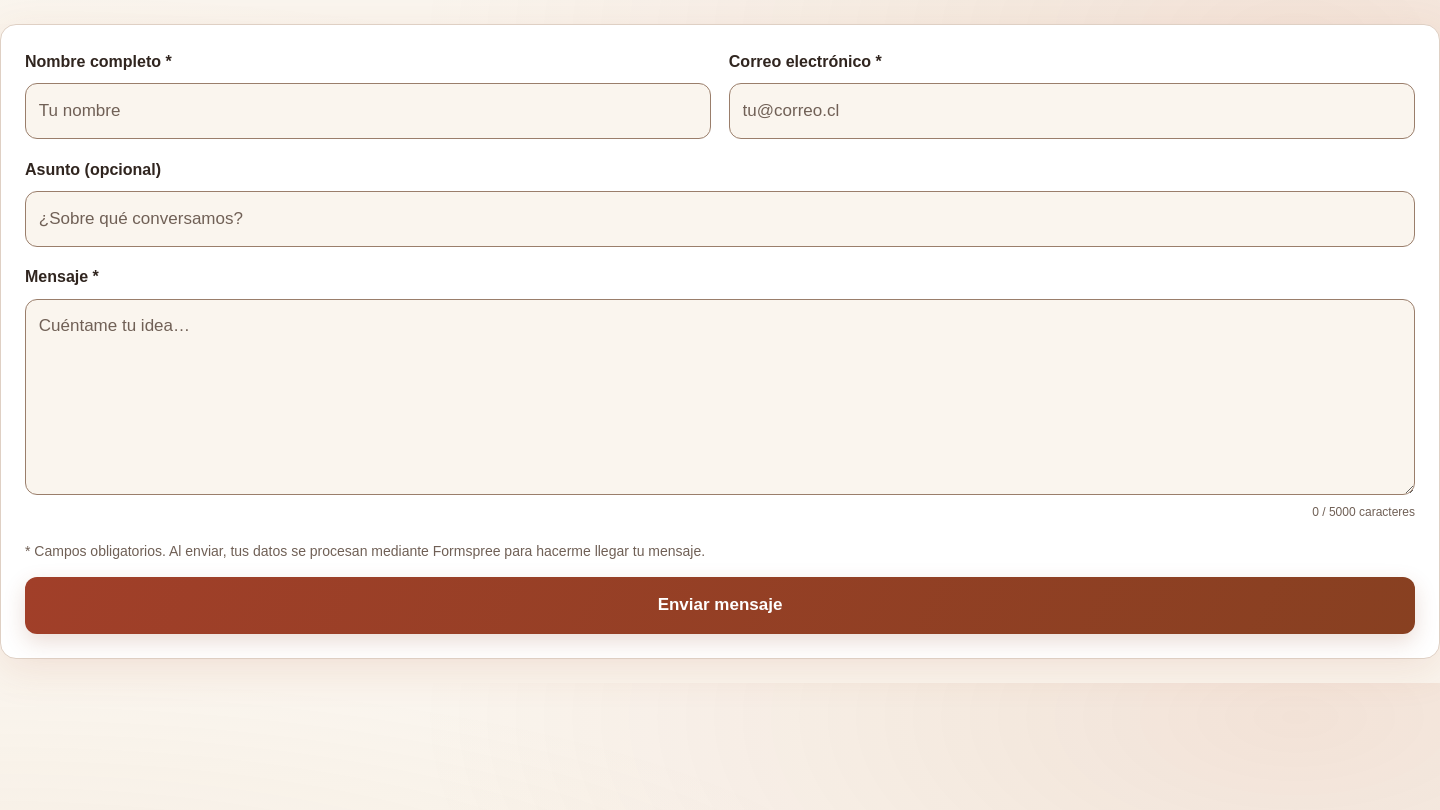
Scenario: Formulario de contacto › cancela por timeout sin reenviar ni afirmar que el mensaje no llegó
This screenshot has width=1440, height=810.
Type "  Matías  " into the field labelled "Nombre completo *".
click(368, 111); type("  Matías  ")  # box [25,83,711,139]
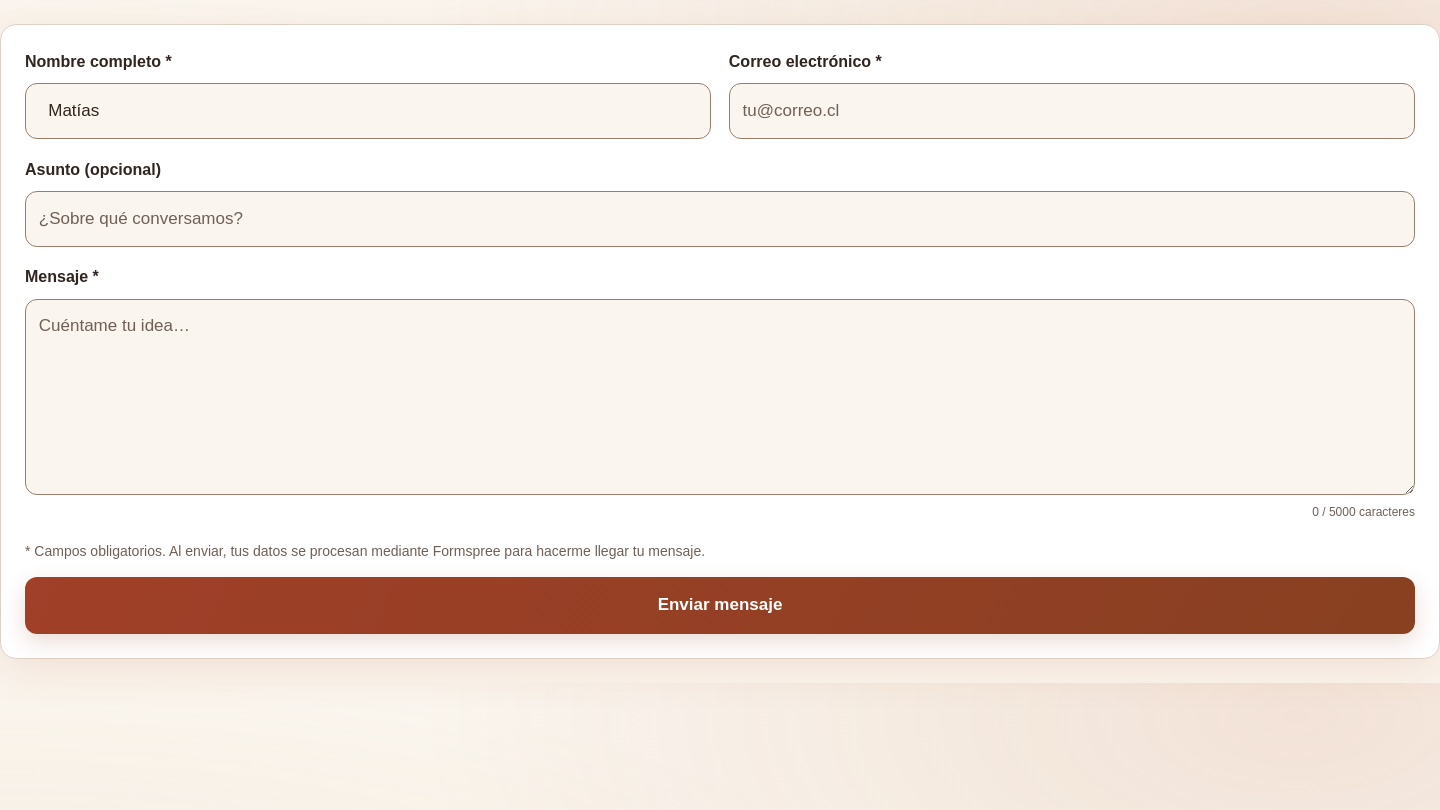
Type "matias@example.com" into the field labelled "Correo electrónico *".
click(1072, 111); type("matias@example.com")  # box [729,83,1415,139]
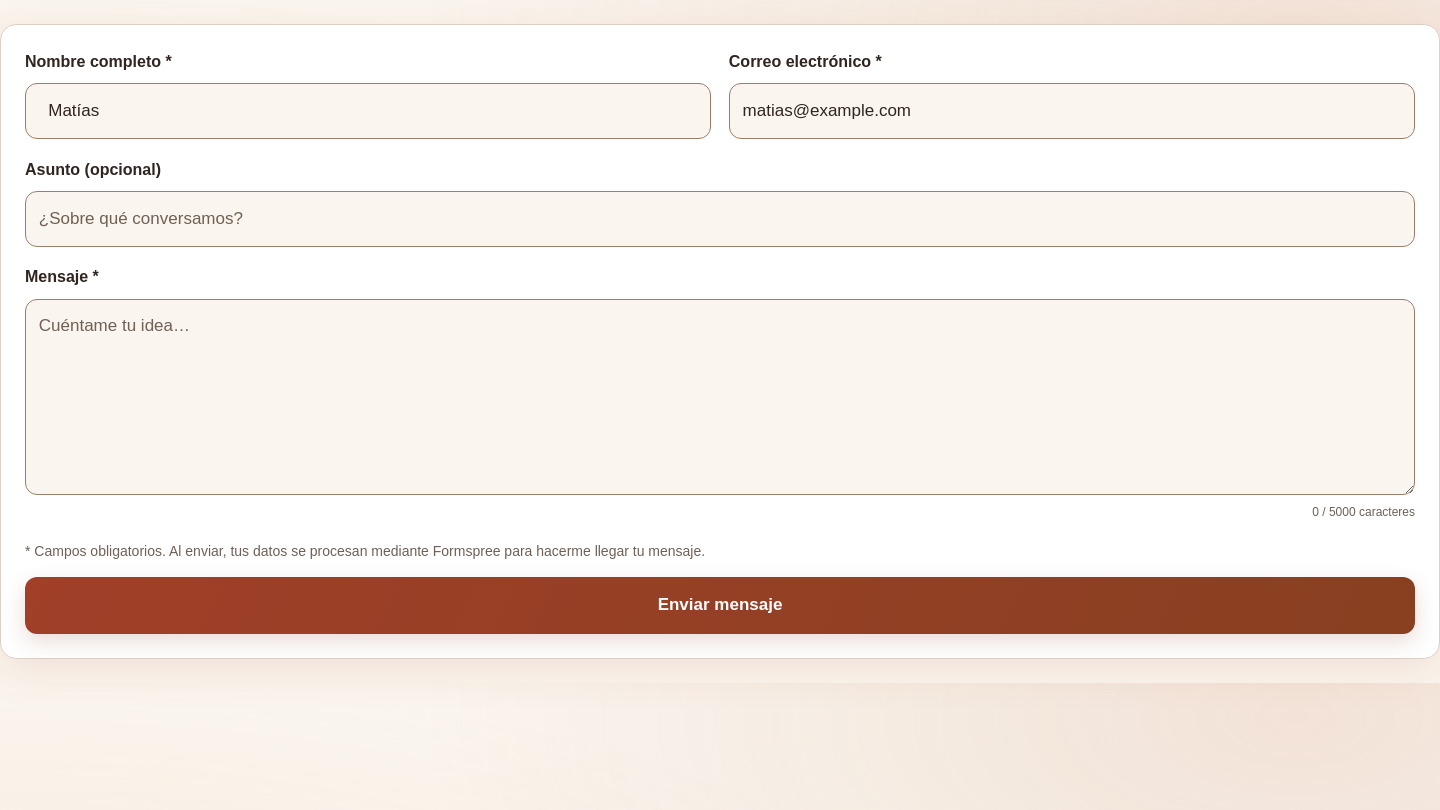
Type "  Consulta  " into the field labelled "Asunto (opcional)".
click(720, 219); type("  Consulta  ")  # box [25,191,1415,247]
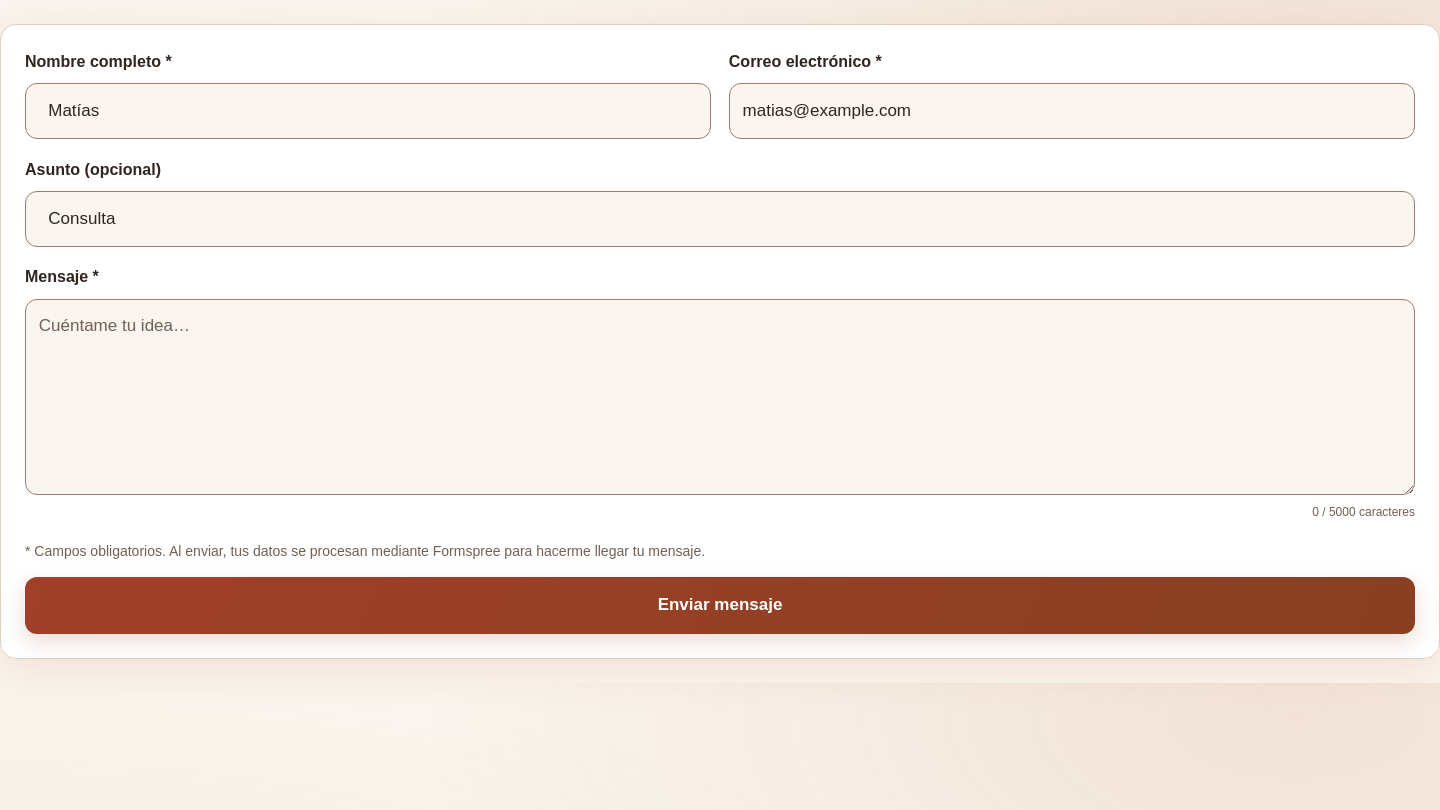
Type "  Quiero conversar sobre un proyecto.  " into the text box labelled "Mensaje *".
click(720, 397); type("  Quiero conversar sobre un proyecto.  ")  # box [25,299,1415,494]
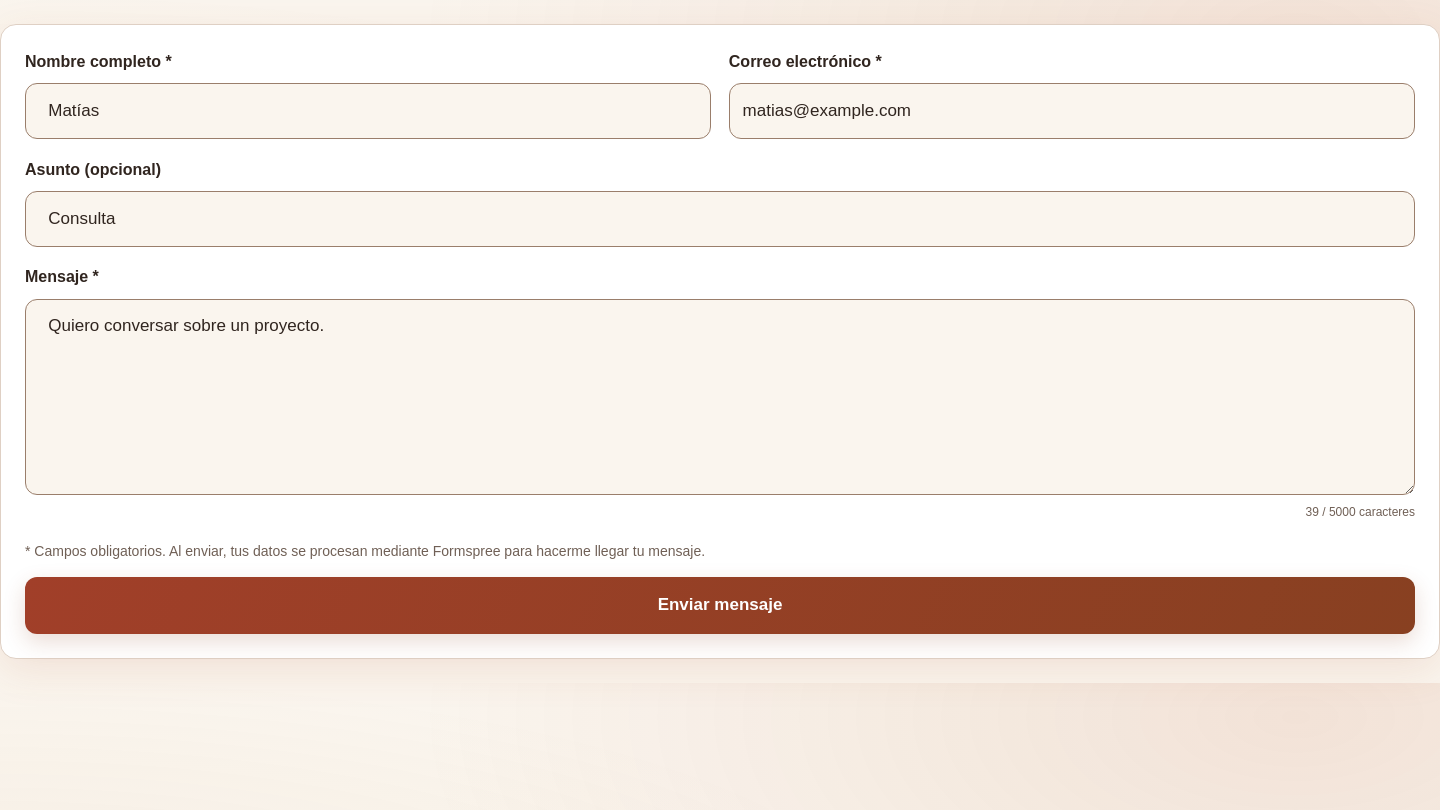
Submit the form
Wait 20000 ms
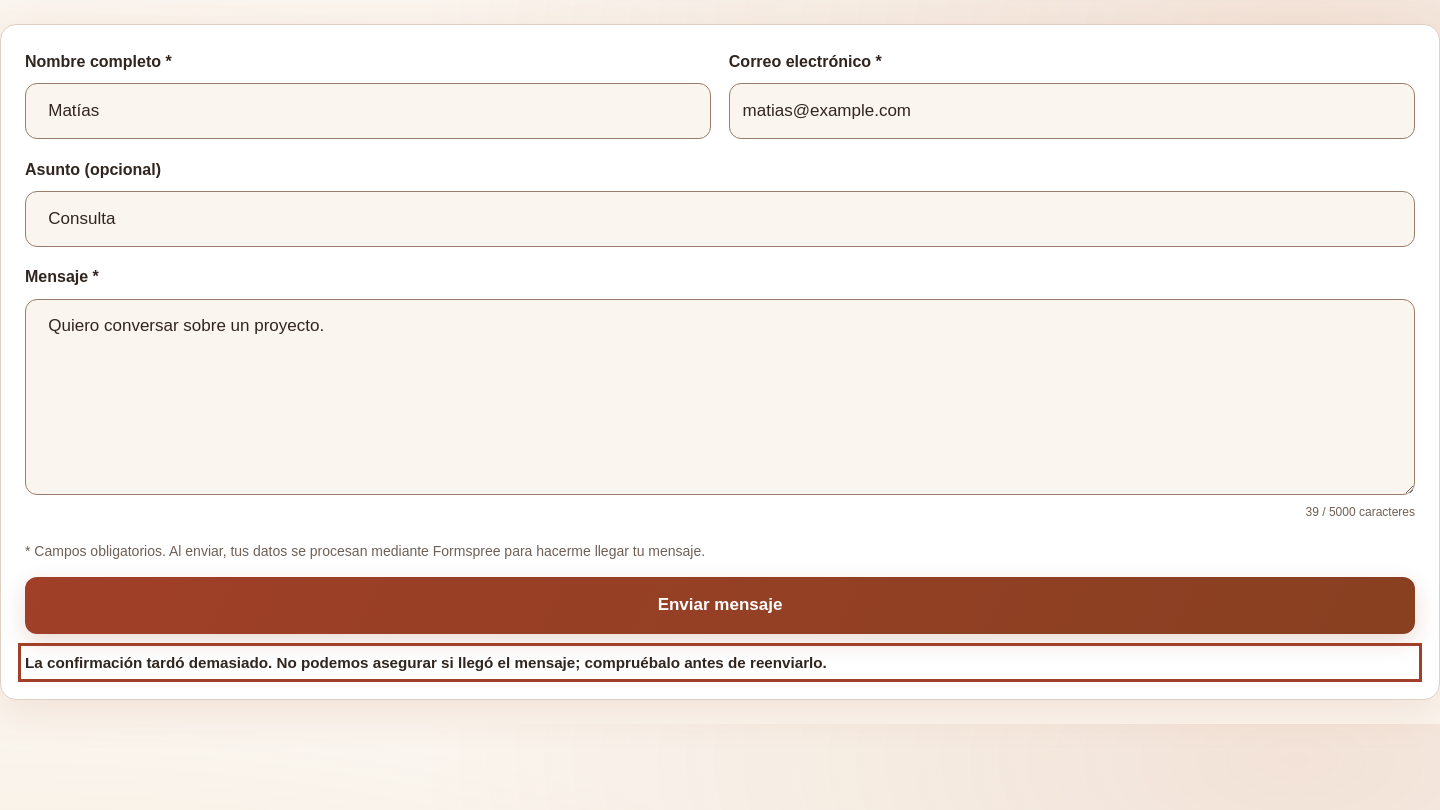
Expected: the button "Enviar mensaje" is enabled, [25,577,1415,634]
Expected: the message shows "No podemos asegurar si llegó", [25,654,827,671]
